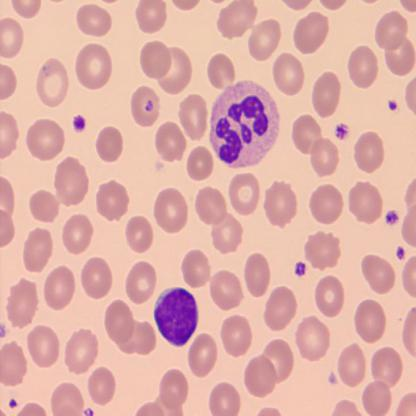Lymphocyte: (153, 286, 199, 347)
